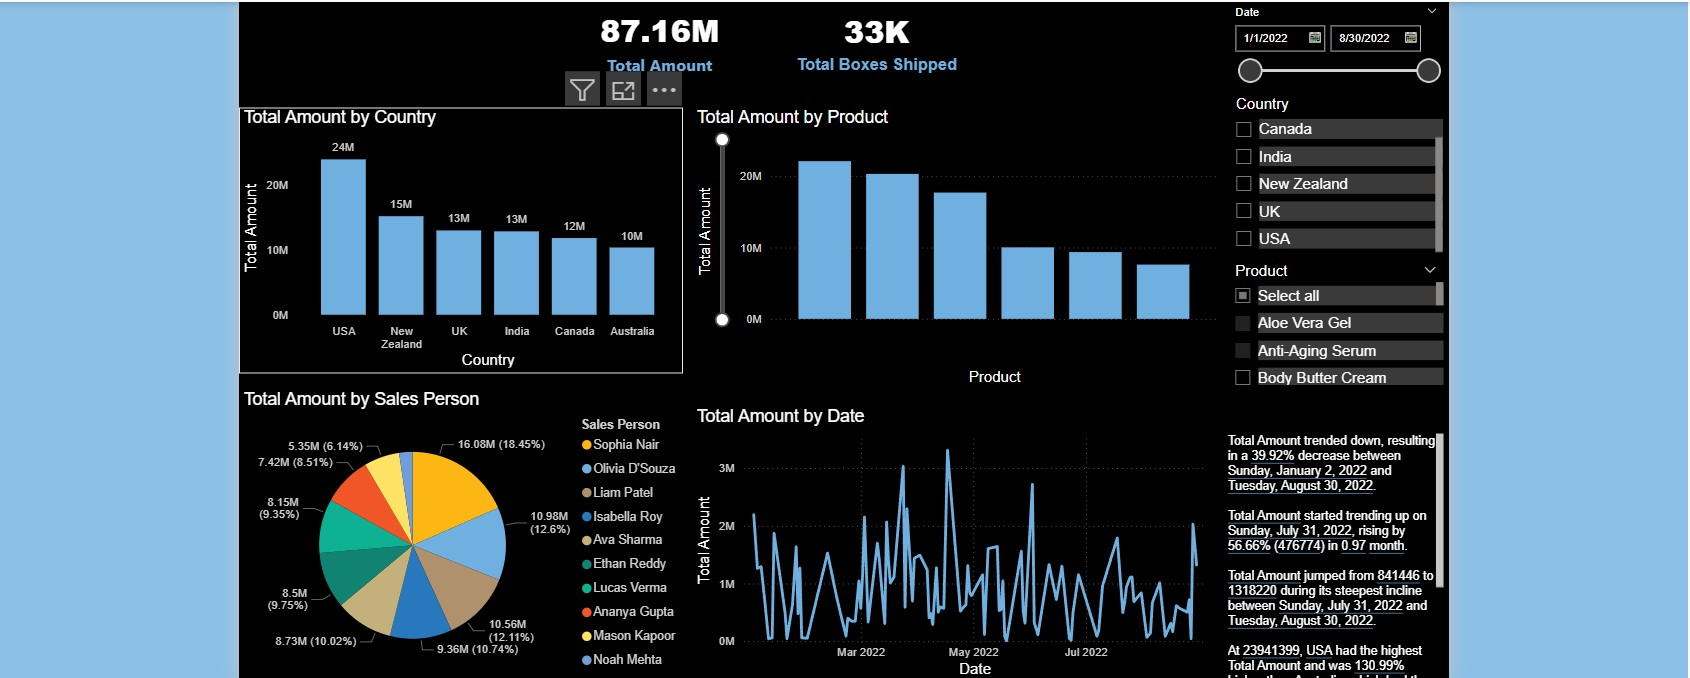

The page's visual inventory and layout, read from the dashboard file:
{"tool":"powerbi","page":{"name":"Sales Performance Dashboard","canvas":[1280,720],"ordinal":0},"visuals":[{"type":"card","fields":{"Values":["cosmetics_sales_data.Total Amount"]},"box":[300,1.7,290,81.7],"z":0},{"type":"card","fields":{"Values":["cosmetics_sales_data.Total Boxes Shipped"]},"box":[558.3,1.7,231.7,81.7],"z":1000},{"type":"clusteredColumnChart","fields":{"Category":["cosmetics_sales_data.Country"],"Y":["cosmetics_sales_data.Total Amount"]},"box":[0,113.3,470,280],"z":2000},{"type":"clusteredColumnChart","fields":{"Category":["cosmetics_sales_data.Product"],"Y":["cosmetics_sales_data.Total Amount"]},"box":[480,113.3,561.7,298.3],"z":3000},{"type":"pieChart","fields":{"Category":["cosmetics_sales_data.Sales Person"],"Y":["cosmetics_sales_data.Total Amount"]},"box":[0,411.7,476.7,308.3],"z":4000},{"type":"lineChart","fields":{"Y":["cosmetics_sales_data.Total Amount"],"Category":["cosmetics_sales_data.Date"]},"box":[480,428.3,561.7,291.7],"z":5000},{"type":"slicer","fields":{"Values":["cosmetics_sales_data.Country"]},"box":[1041.7,93.3,238.3,178.3],"z":6000},{"type":"slicer","fields":{"Values":["cosmetics_sales_data.Product"]},"box":[1041.7,271.7,238.3,140],"z":7000},{"type":"slicer","fields":{"Values":["cosmetics_sales_data.Date"]},"box":[1041.7,0,238.3,93.3],"z":8000},{"type":"textbox","box":[1041.7,451.7,238.3,268.3],"z":9000}]}

Visuals, with their boxes on the page's 1280x720 design canvas (x1, y1, x2, y2). These are canvas units, not pixel positions in the 1690x678 screenshot, which may show the page scaled, cropped or inside an application window:
card - cosmetics_sales_data.Total Amount: box=[300, 2, 590, 83]
card - cosmetics_sales_data.Total Boxes Shipped: box=[558, 2, 790, 83]
clusteredColumnChart - cosmetics_sales_data.Country x cosmetics_sales_data.Total Amount: box=[0, 113, 470, 393]
clusteredColumnChart - cosmetics_sales_data.Product x cosmetics_sales_data.Total Amount: box=[480, 113, 1042, 412]
pieChart - cosmetics_sales_data.Sales Person x cosmetics_sales_data.Total Amount: box=[0, 412, 477, 720]
lineChart - cosmetics_sales_data.Total Amount x cosmetics_sales_data.Date: box=[480, 428, 1042, 720]
slicer - cosmetics_sales_data.Country: box=[1042, 93, 1280, 272]
slicer - cosmetics_sales_data.Product: box=[1042, 272, 1280, 412]
slicer - cosmetics_sales_data.Date: box=[1042, 0, 1280, 93]
textbox: box=[1042, 452, 1280, 720]
